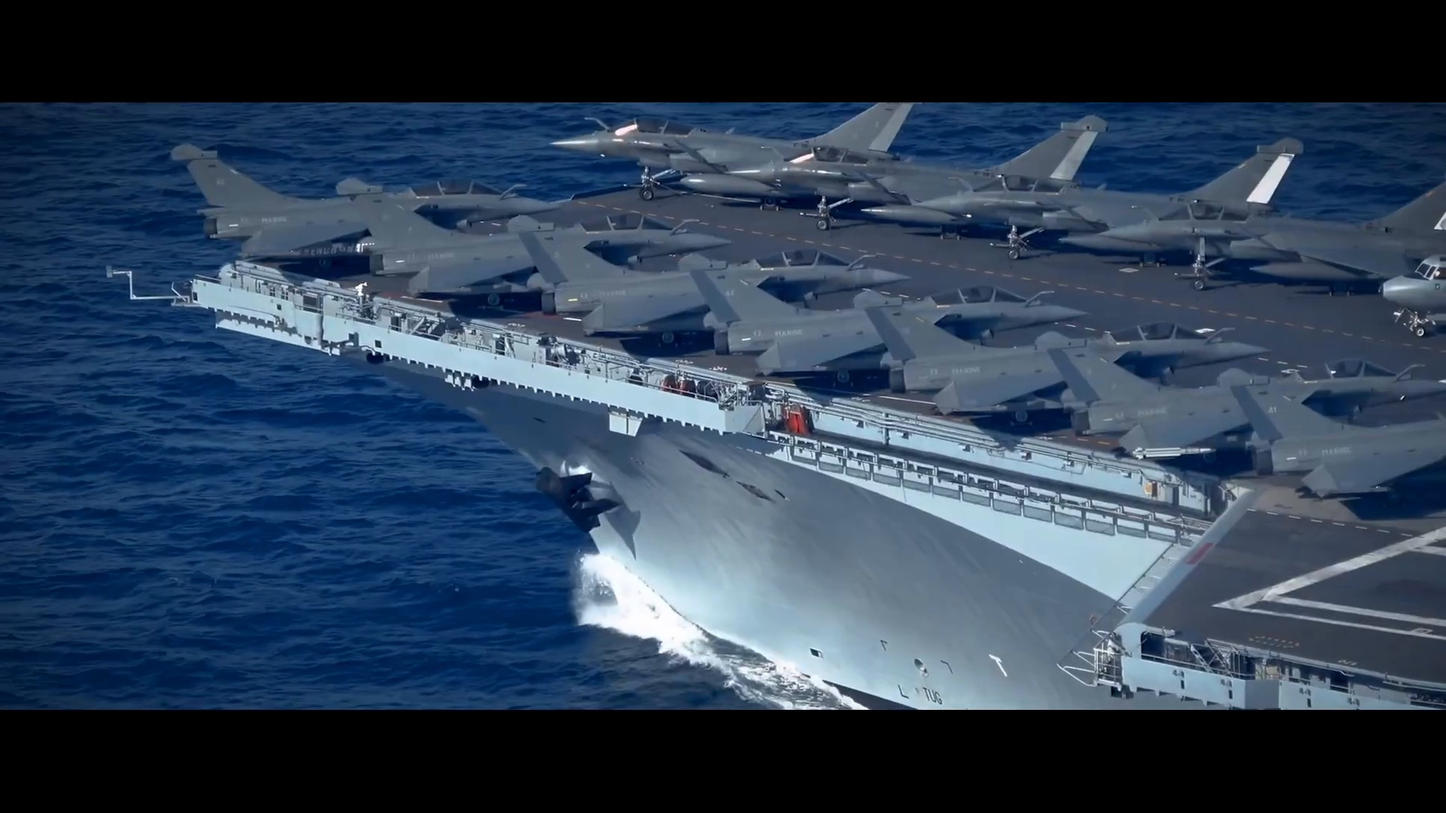Rafale: (1040, 347, 1442, 483), (853, 290, 1268, 421), (505, 213, 911, 345), (680, 254, 1091, 384), (334, 178, 734, 308), (909, 139, 1305, 261), (172, 147, 563, 268), (1102, 158, 1446, 292), (719, 115, 1109, 230), (549, 103, 915, 202)
